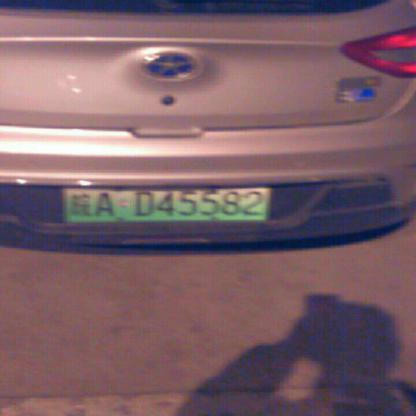lp: (64, 186, 268, 221)
